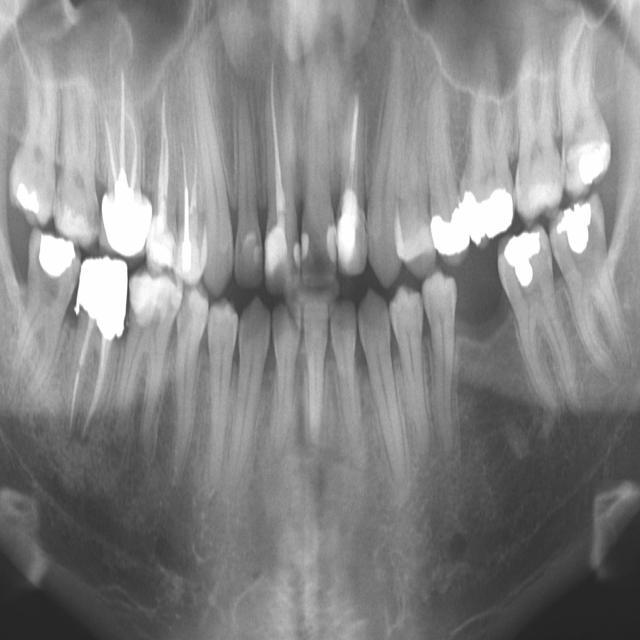dolgu: (497, 233, 545, 289), (569, 134, 611, 184), (558, 200, 594, 258), (34, 232, 76, 280), (258, 226, 292, 273), (8, 180, 49, 216), (334, 204, 360, 256), (324, 224, 342, 260), (300, 230, 320, 259), (287, 238, 305, 266)
kanal-tedavisi: (60, 316, 118, 450), (94, 73, 154, 199), (260, 53, 296, 243), (169, 112, 212, 249), (145, 86, 180, 224), (337, 79, 369, 229)
kaplama: (80, 258, 128, 328), (100, 196, 148, 254), (463, 188, 515, 238), (426, 212, 469, 252)
